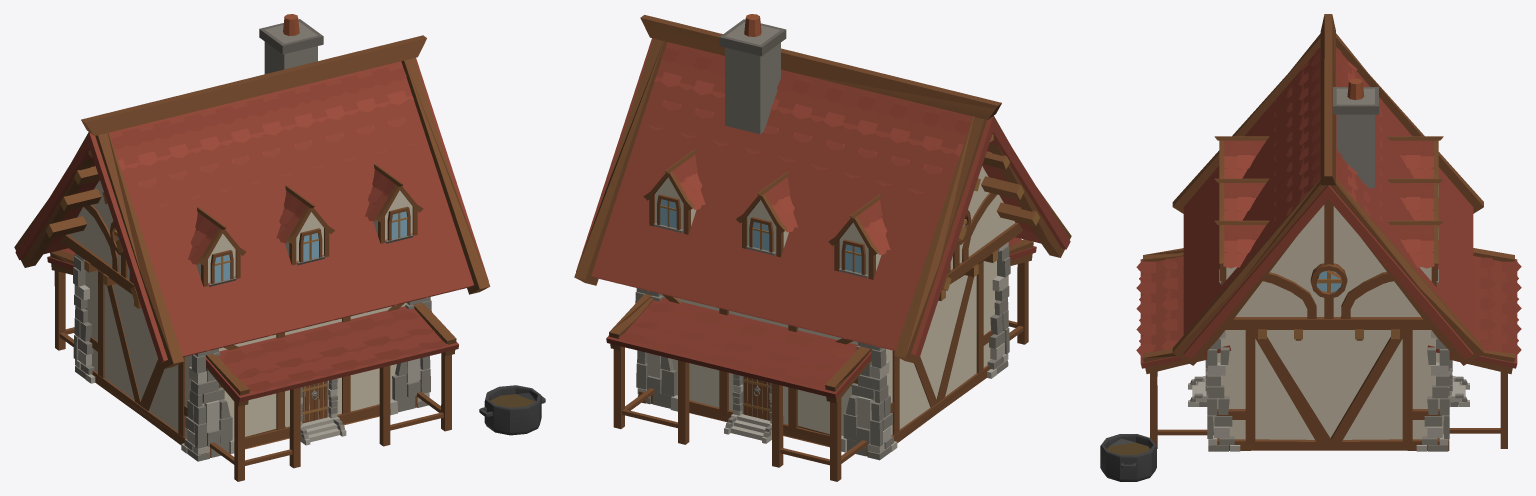
File: kitchen.glb
3 renders of one model, left to right at view 1: azimuth 30°, elevation 25°; view 2: azimuth 150°, elevation 25°; view 3: azimuth 270°, elevation 25°, orthographic. The views are drawn at different scales.
Visible parts, largest first — view 1: building-kitchen, building-kitchen-far; view 2: building-kitchen, building-kitchen-far; view 3: building-kitchen, building-kitchen-far.
Boxes of the visible parts, x1,y1,x2,y2 form: building-kitchen: (20, 14, 545, 481); building-kitchen-far: (14, 21, 535, 481); building-kitchen: (575, 14, 1070, 481); building-kitchen-far: (574, 21, 1071, 481); building-kitchen: (1100, 14, 1521, 481); building-kitchen-far: (1107, 19, 1516, 454).
Bounding box in the file's own units: 5.27 × 4.91 × 5.5.
